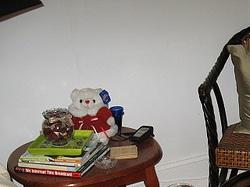chair: (192, 16, 250, 187)
